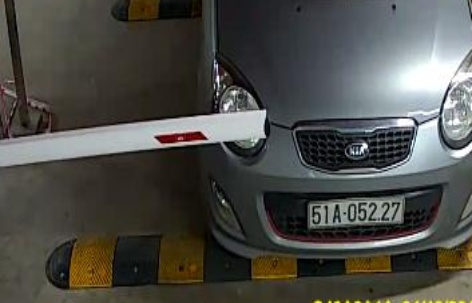plate: (306, 197, 407, 231)
